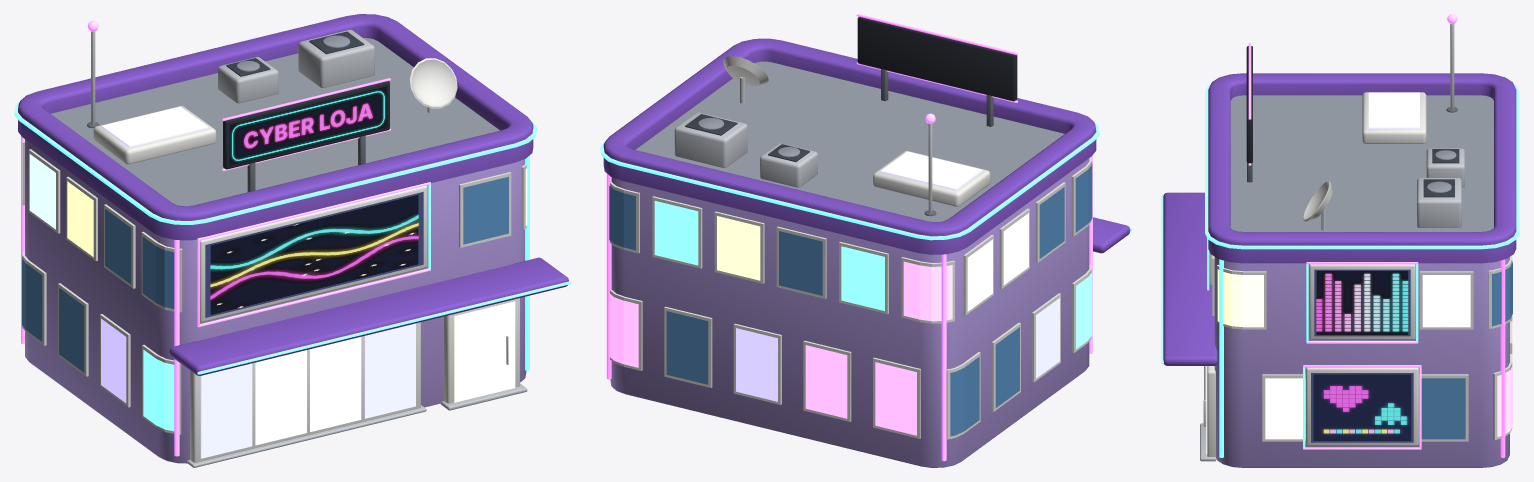
Rendered from cyber_loja_telas_lilas.glb.
The picture shows the model from 3 angles, left to right: view 1: azimuth 30°, elevation 25°; view 2: azimuth 150°, elevation 25°; view 3: azimuth 270°, elevation 25°; orthographic projection. The views are drawn at different scales.
Visible parts, largest first — view 1: cyber_loja_telas_lilas; view 2: cyber_loja_telas_lilas; view 3: cyber_loja_telas_lilas.
Part boxes in pixels (left/top/right/bottom): cyber_loja_telas_lilas: left=14, top=14, right=571, bottom=467; cyber_loja_telas_lilas: left=600, top=14, right=1132, bottom=467; cyber_loja_telas_lilas: left=1161, top=14, right=1519, bottom=467.
Size of the model in its own units: 12.6 by 10.8 by 11.16.
15 materials, 5 textured.
